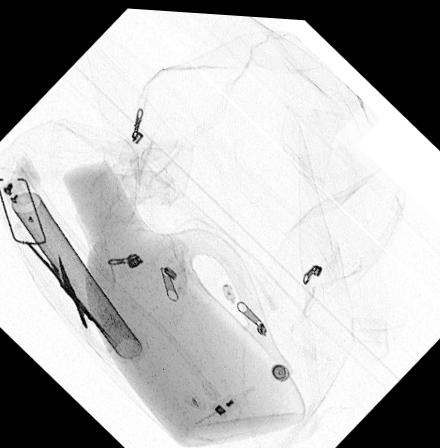Scissors: (12, 217, 119, 352)
